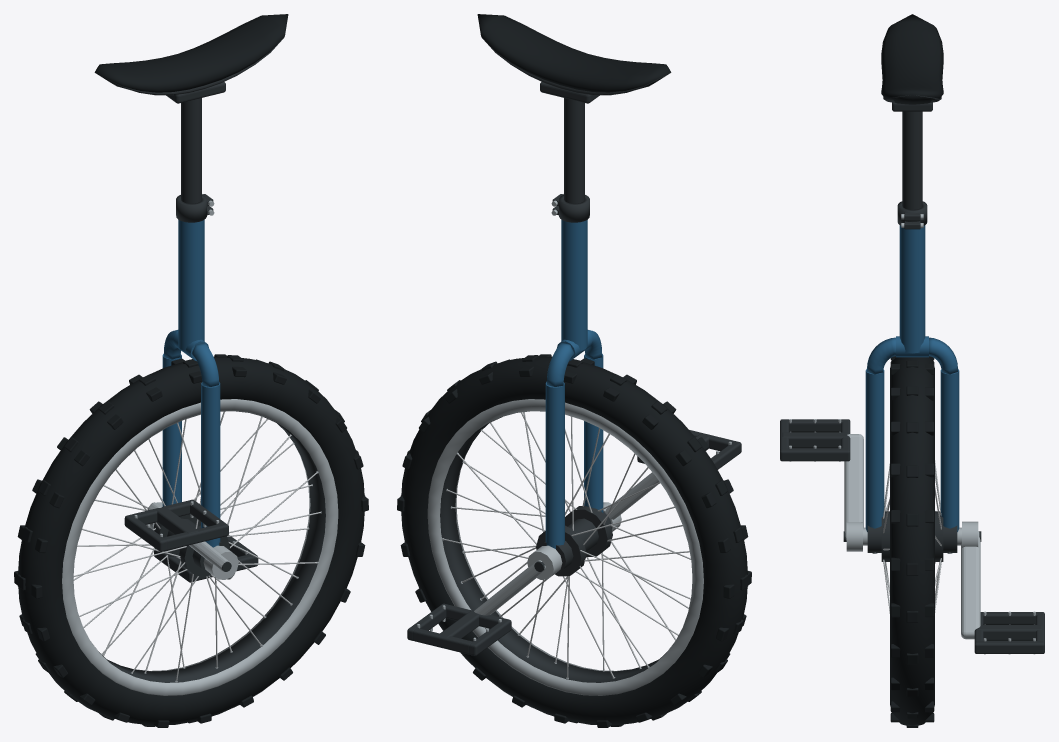
The picture shows the model from 3 angles, left to right: view 1: azimuth 30°, elevation 25°; view 2: azimuth 150°, elevation 25°; view 3: azimuth 270°, elevation 25°; orthographic projection. The views are drawn at different scales.
Parts seen in each view (by area): view 1: Thick tire carcass, Double wall alloy rim, Curved black saddle cushion, Dark inner rim bed, Seatpost frame neck, Fork straight leg -1, Exposed seatpost, Fork straight leg 1, Pedal end rail (-1, -0.041), Fork shoulder -1, Pedal outer rail (-1, -0.046), Seatpost clamp ring (+2 smaller); view 2: Thick tire carcass, Double wall alloy rim, Curved black saddle cushion, Dark inner rim bed, Seatpost frame neck, Fork straight leg 1, Exposed seatpost, Fork straight leg -1, Alloy crank arm 1, Hub flange -1, Hub flange 1, Pedal end rail (1, 0.041) (+6 smaller); view 3: Thick tire carcass, Curved black saddle cushion, Seatpost frame neck, Fork straight leg 1, Fork straight leg -1, Exposed seatpost, Alloy crank arm 1, Alloy crank arm -1, Pedal outer rail (-1, 0.046), Pedal center spindle bridge -1, Pedal outer rail (1, 0.046), Pedal center spindle bridge 1 (+6 smaller).
Boxes of the visible parts, x1=… form: Thick tire carcass: x1=18, y1=356, x2=364, y2=725; Double wall alloy rim: x1=62, y1=399, x2=338, y2=695; Curved black saddle cushion: x1=94, y1=14, x2=288, y2=92; Dark inner rim bed: x1=95, y1=417, x2=325, y2=682; Seatpost frame neck: x1=178, y1=219, x2=204, y2=351; Fork straight leg -1: x1=201, y1=382, x2=220, y2=547; Exposed seatpost: x1=181, y1=98, x2=201, y2=203; Fork straight leg 1: x1=162, y1=353, x2=181, y2=506; Pedal end rail (-1, -0.041): x1=163, y1=524, x2=222, y2=550; Fork shoulder -1: x1=191, y1=343, x2=219, y2=386; Pedal outer rail (-1, -0.046): x1=124, y1=514, x2=166, y2=551; Seatpost clamp ring: x1=176, y1=195, x2=206, y2=222; Thick tire carcass: x1=401, y1=356, x2=747, y2=725; Double wall alloy rim: x1=427, y1=399, x2=703, y2=695; Curved black saddle cushion: x1=477, y1=14, x2=671, y2=92; Dark inner rim bed: x1=440, y1=417, x2=670, y2=682; Seatpost frame neck: x1=561, y1=219, x2=587, y2=351; Fork straight leg 1: x1=545, y1=382, x2=564, y2=548; Exposed seatpost: x1=564, y1=98, x2=584, y2=203; Fork straight leg -1: x1=584, y1=353, x2=603, y2=513; Alloy crank arm 1: x1=474, y1=560, x2=545, y2=615; Hub flange -1: x1=565, y1=506, x2=612, y2=557; Hub flange 1: x1=536, y1=525, x2=586, y2=576; Pedal end rail (1, 0.041): x1=413, y1=628, x2=472, y2=654; Thick tire carcass: x1=890, y1=357, x2=934, y2=725; Curved black saddle cushion: x1=881, y1=14, x2=943, y2=104; Seatpost frame neck: x1=899, y1=225, x2=925, y2=353; Fork straight leg 1: x1=940, y1=369, x2=959, y2=531; Fork straight leg -1: x1=865, y1=369, x2=884, y2=531; Exposed seatpost: x1=902, y1=111, x2=922, y2=209; Alloy crank arm 1: x1=961, y1=531, x2=980, y2=639; Alloy crank arm -1: x1=844, y1=434, x2=863, y2=540; Pedal outer rail (-1, 0.046): x1=780, y1=448, x2=850, y2=461; Pedal center spindle bridge -1: x1=782, y1=432, x2=847, y2=448; Pedal outer rail (1, 0.046): x1=974, y1=641, x2=1044, y2=653; Pedal center spindle bridge 1: x1=977, y1=625, x2=1042, y2=640.
Size of the model in its own units: 51.2 by 97.5 by 35.4.
